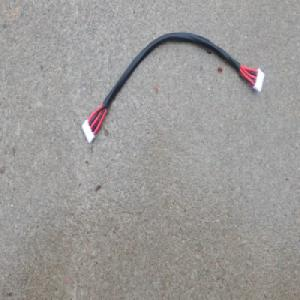Wire: (80, 29, 265, 146)
